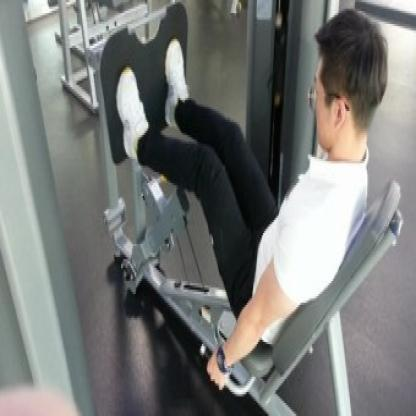leg press: (67, 0, 416, 416)
